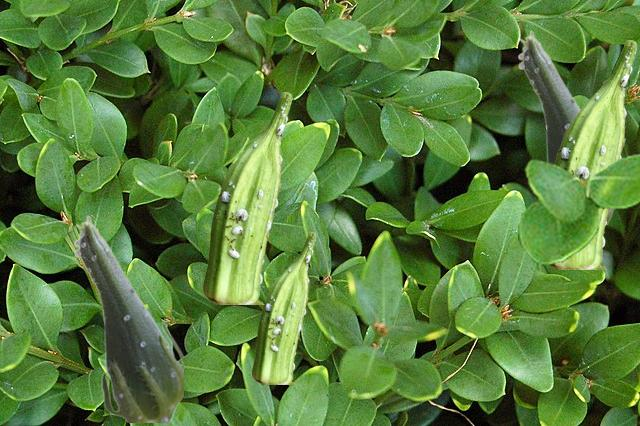okra: (73, 215, 182, 421), (548, 40, 636, 268), (517, 30, 614, 223), (203, 92, 291, 303), (252, 232, 315, 383)
